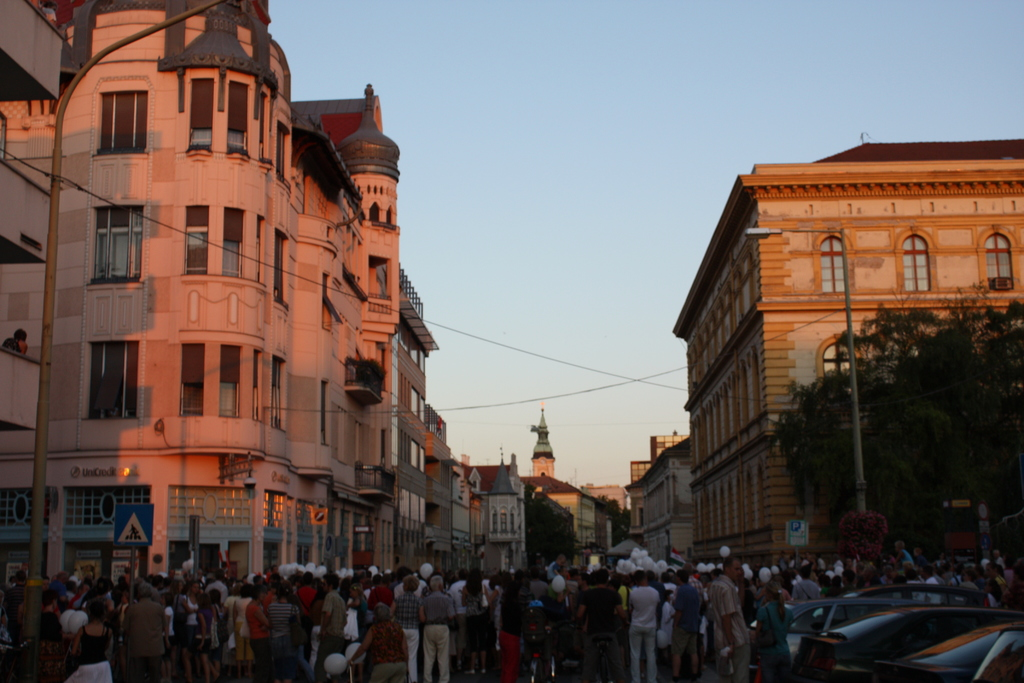Car: (748, 584, 987, 678)
